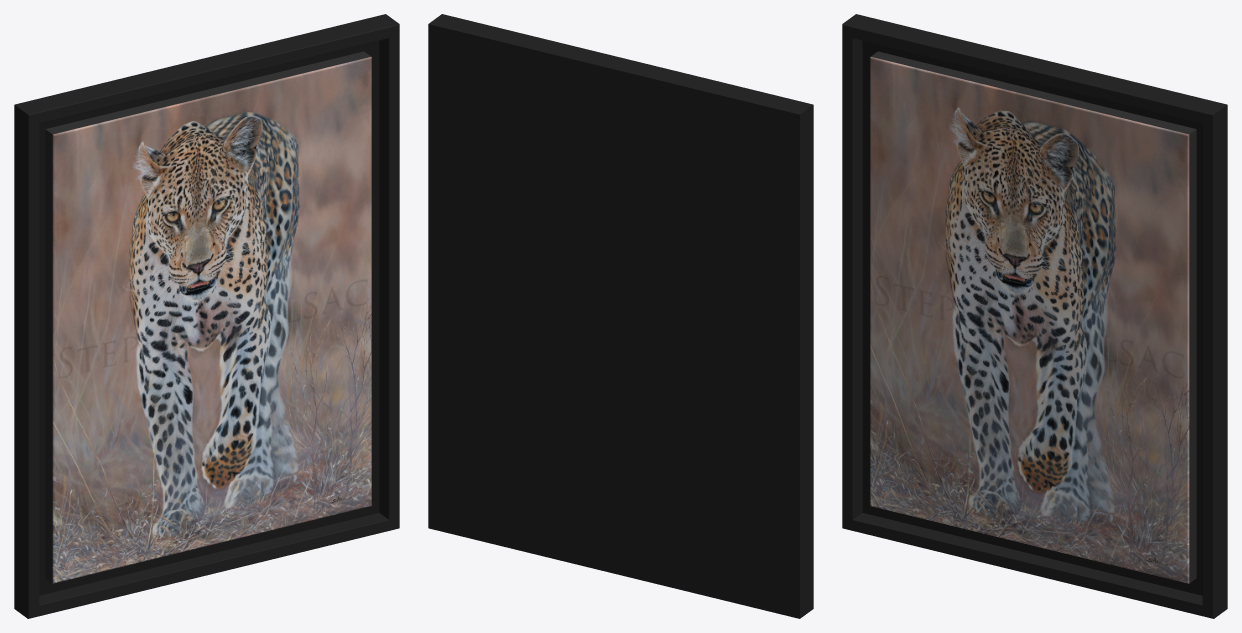
Rendered from tableau-leopard-le-chasseur-classique-d2e779ea.glb.
3 renders of one model, left to right at view 1: azimuth 30°, elevation 25°; view 2: azimuth 150°, elevation 25°; view 3: azimuth 330°, elevation 25°, orthographic.
Visible parts, largest first — view 1: Painting; view 2: Painting; view 3: Painting.
Part boxes in pixels (left/top/right/bottom): Painting: left=14, top=14, right=399, bottom=618; Painting: left=428, top=14, right=813, bottom=618; Painting: left=842, top=14, right=1227, bottom=618.
Bounding box in the file's own units: 0.606 × 0.786 × 0.04.
Materials: 4 (2 with a texture image).
